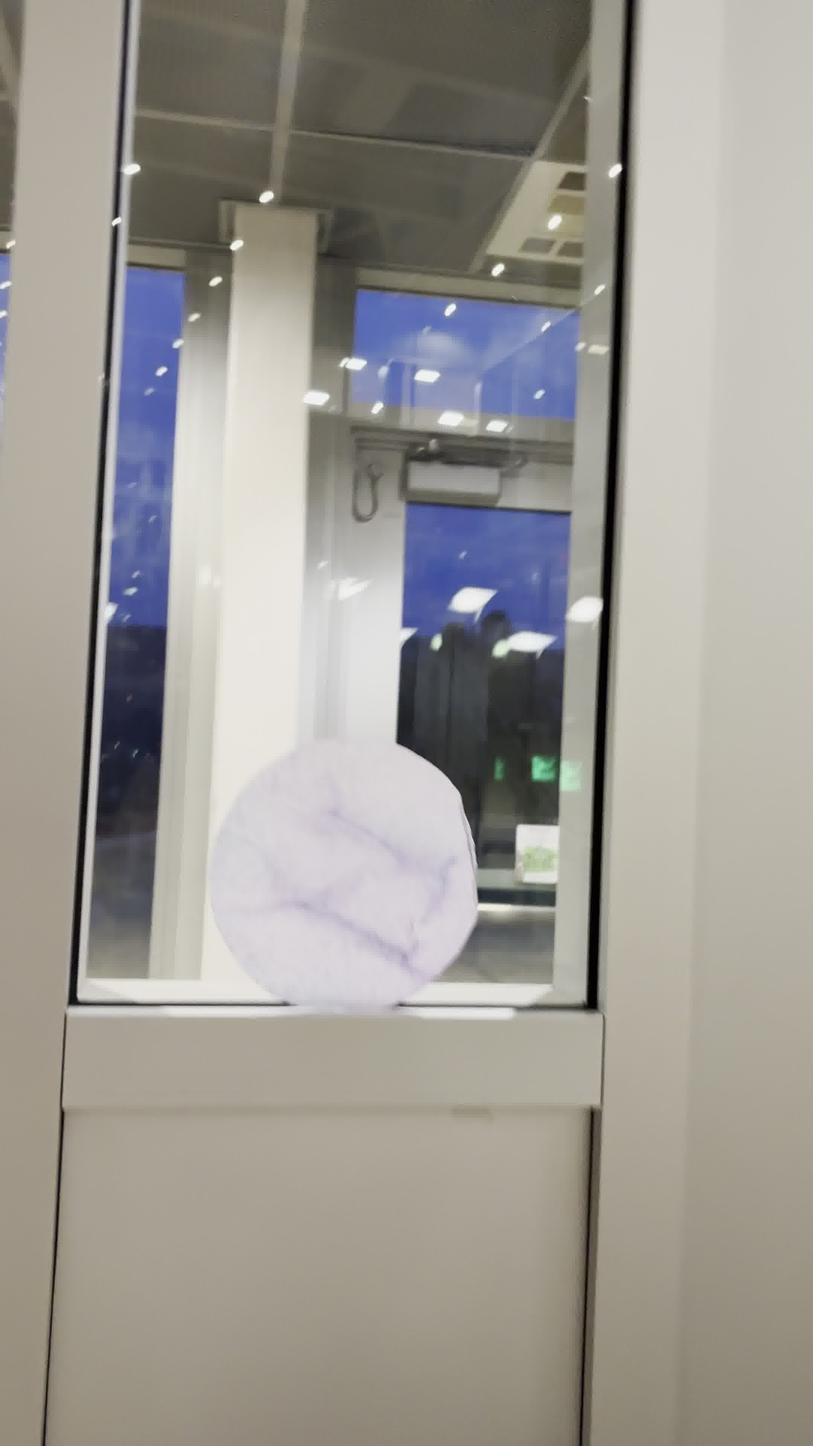Target: (207, 732, 482, 1015)
